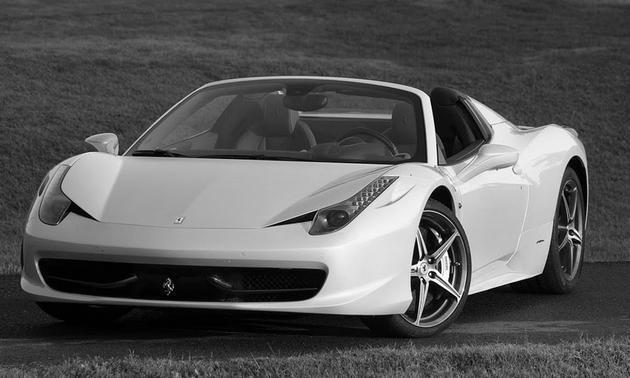car: (21, 77, 590, 339)
